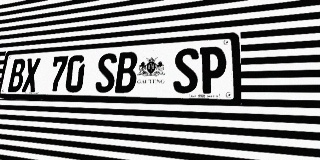0: (64, 55, 86, 92)
7: (48, 56, 68, 92)
B: (115, 51, 138, 93), (8, 58, 26, 92)
P: (199, 46, 226, 94)
S: (173, 48, 199, 93), (95, 53, 117, 93)
X: (21, 58, 41, 92)
